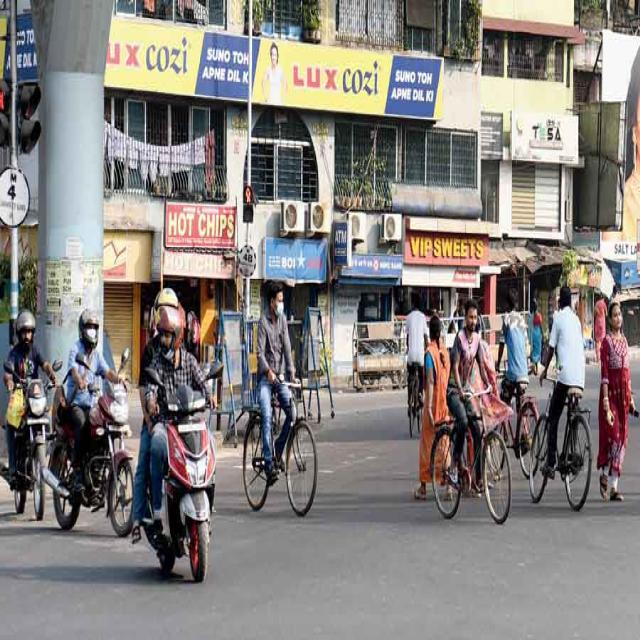bicycle: (431, 299, 511, 523), (242, 284, 316, 515), (530, 286, 591, 511)
motorcycle: (132, 288, 221, 582), (42, 308, 134, 537), (0, 310, 62, 519)
